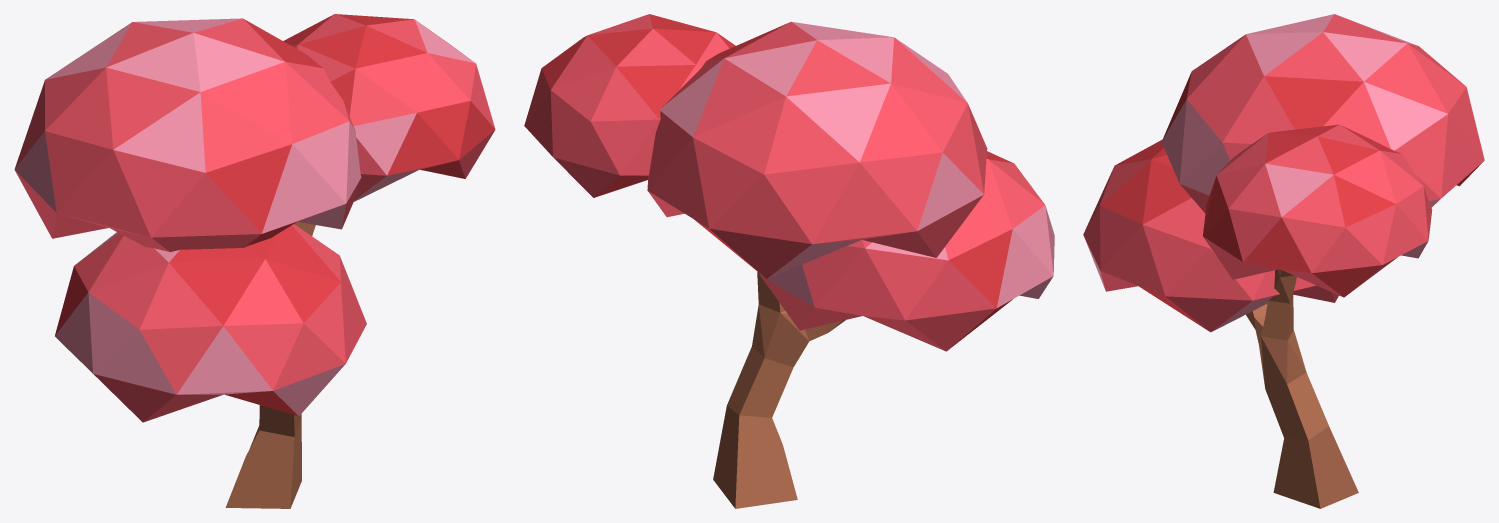
The model's file is Tree_10_1.fbx.
3 renders of one model, left to right at view 1: azimuth 30°, elevation 25°; view 2: azimuth 150°, elevation 25°; view 3: azimuth 270°, elevation 25°, orthographic. The views are drawn at different scales.
Visible parts, largest first — view 1: Tree_10 top, Tree_10 trunk; view 2: Tree_10 top, Tree_10 trunk; view 3: Tree_10 top, Tree_10 trunk.
Part boxes in pixels (left/top/right/bottom): Tree_10 top: left=14, top=14, right=495, bottom=436; Tree_10 trunk: left=225, top=416, right=301, bottom=508; Tree_10 top: left=524, top=14, right=1054, bottom=417; Tree_10 trunk: left=713, top=406, right=797, bottom=508; Tree_10 top: left=1083, top=14, right=1484, bottom=440; Tree_10 trunk: left=1273, top=426, right=1358, bottom=508.
Size of the model in its own units: 499 by 502 by 422.
